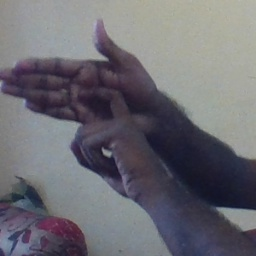R: (9, 16, 163, 185)
